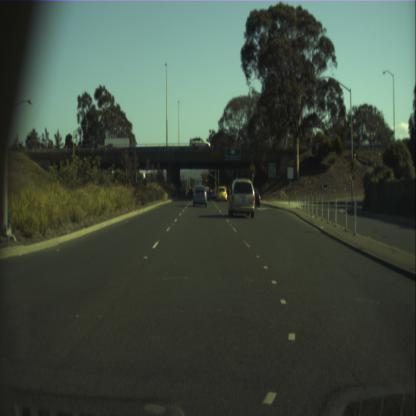Red: (200, 171, 202, 176), (205, 178, 207, 182), (214, 181, 216, 184)
